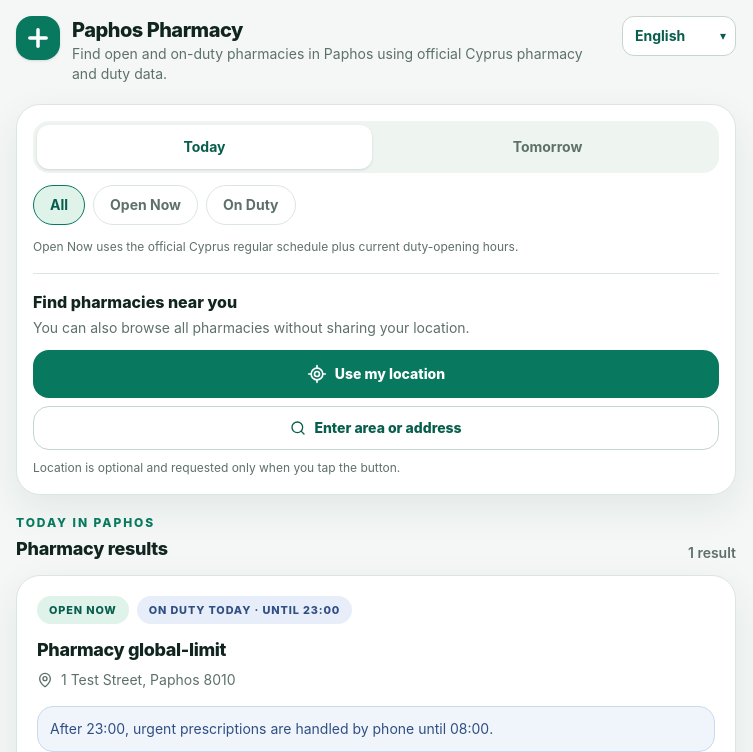
Test: PharmacyFinder localization › keeps global and provider throttling on the generic localized message
The image size is (753, 752).
Click the button "Enter area or address": coordinates (376, 428) [33,406,719,450]
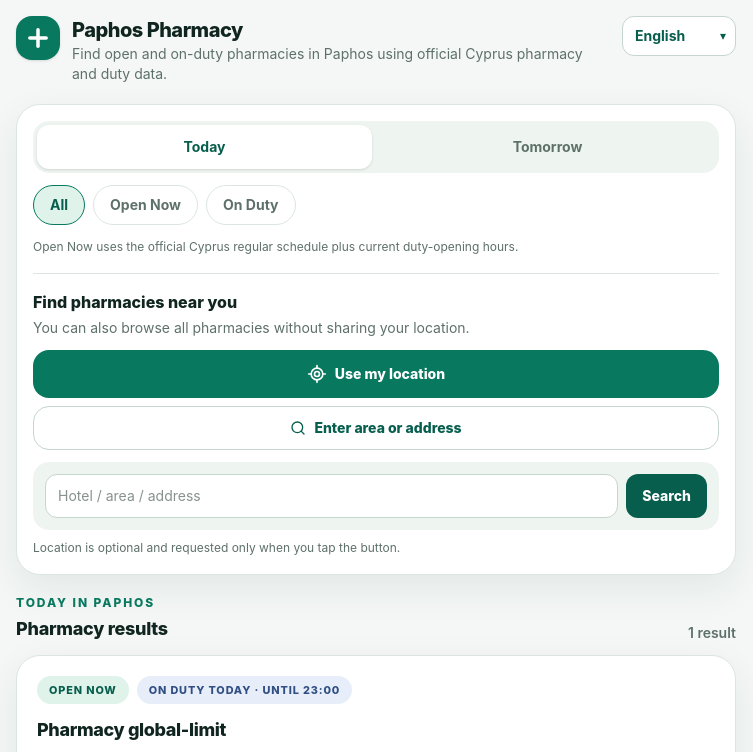
In the field named "Hotel, area, landmark, or address in Paphos": coordinates (332, 496) [45,474,618,518], type "Paphos harbour"
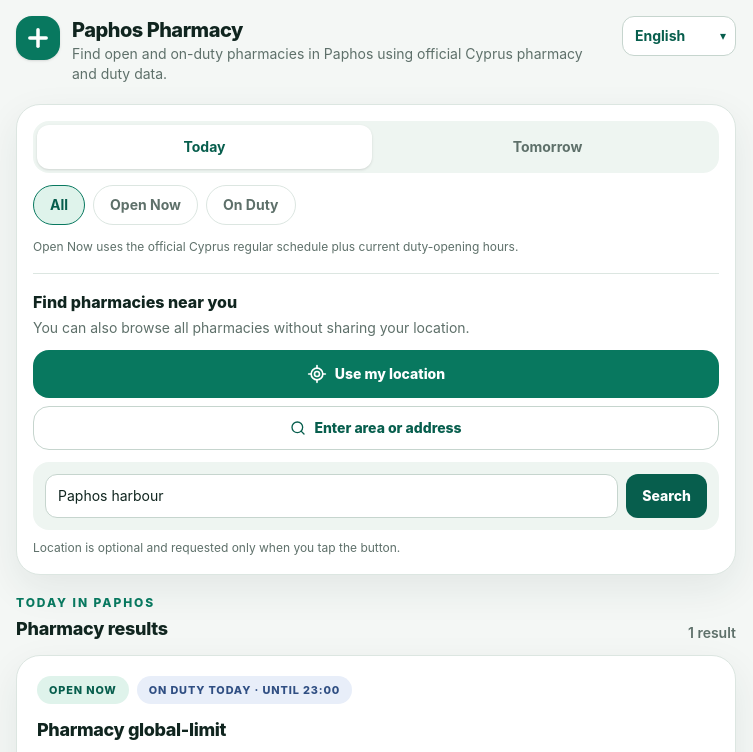
Click the button "Search": coordinates (667, 496) [626,474,707,518]
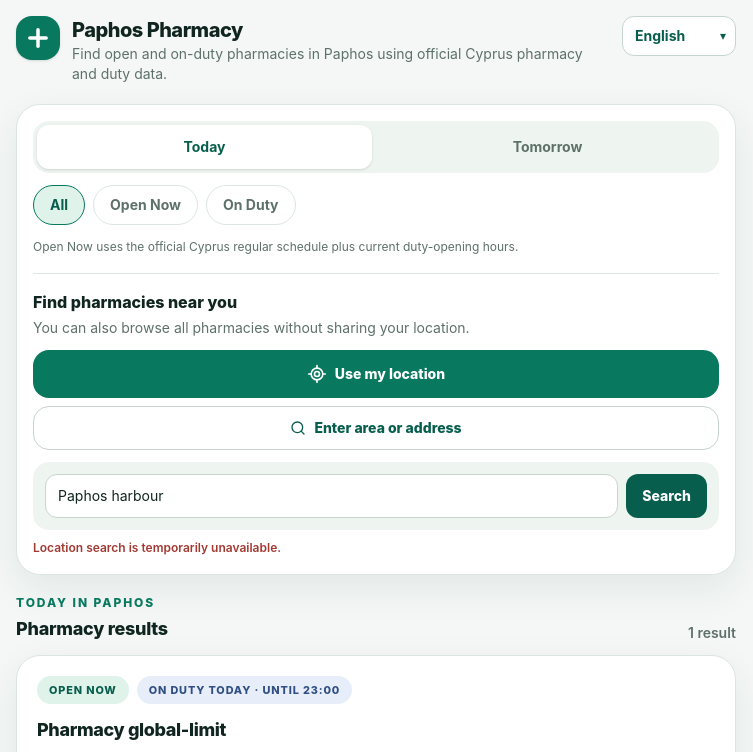
Result: the text "Location search is temporarily unavailable." is shown at [33,540,281,555]
